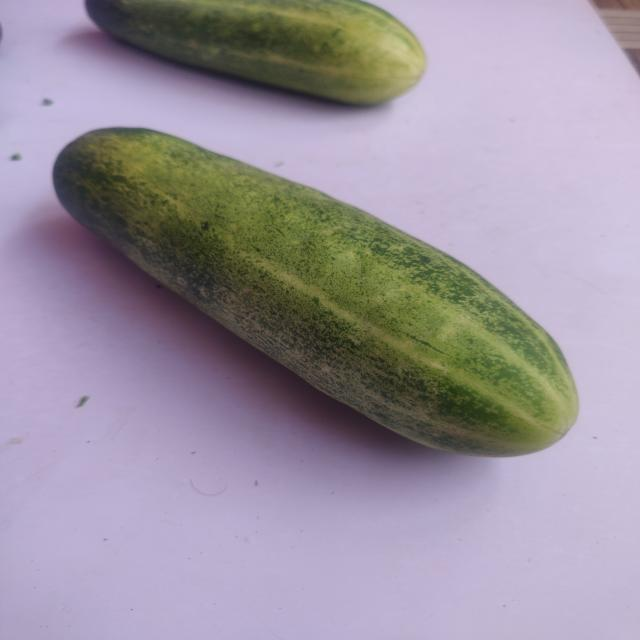Cucumber: (52, 127, 579, 457)
